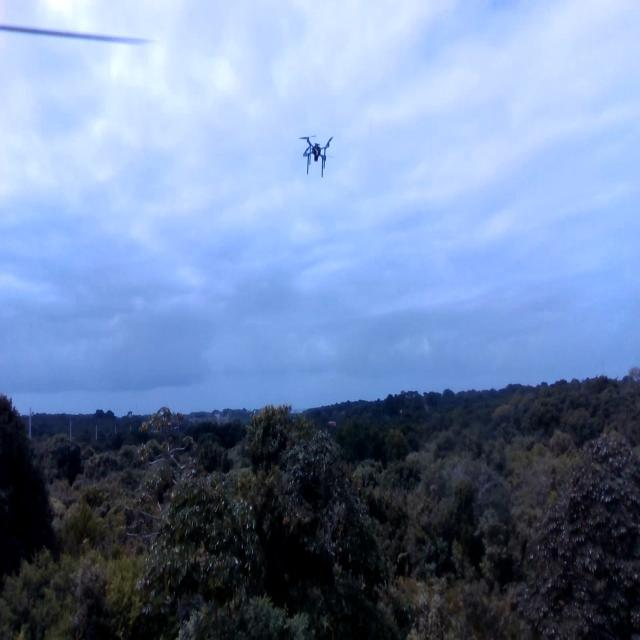-uav-: (293, 128, 339, 186)
